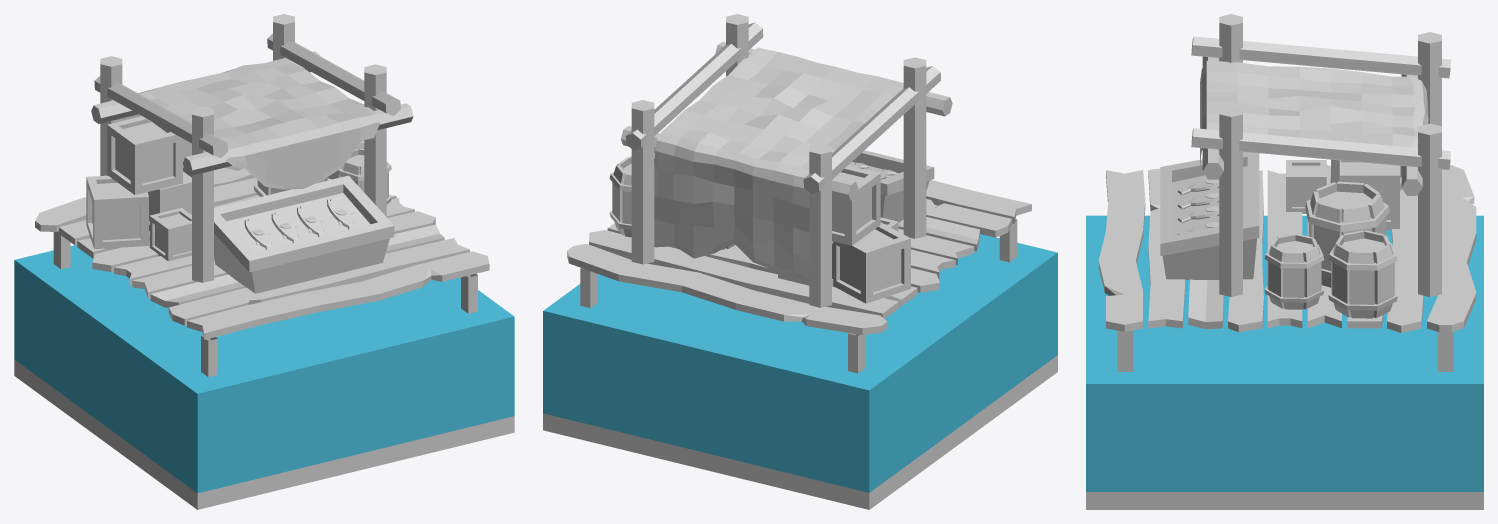
Rendered from Assets18.fbx.
3 views of the same model, side by side, from view 1: azimuth 30°, elevation 25°; view 2: azimuth 150°, elevation 25°; view 3: azimuth 270°, elevation 25° (orthographic). The views are drawn at different scales.
Parts seen in each view (by area): view 1: PortStart.001; view 2: PortStart.001; view 3: PortStart.001.
Part boxes in pixels (x1,y1,x2,y2): PortStart.001: (14, 14, 514, 509); PortStart.001: (543, 14, 1057, 509); PortStart.001: (1086, 14, 1483, 509).
Bounding box in the file's own units: 2 × 2 × 2.
